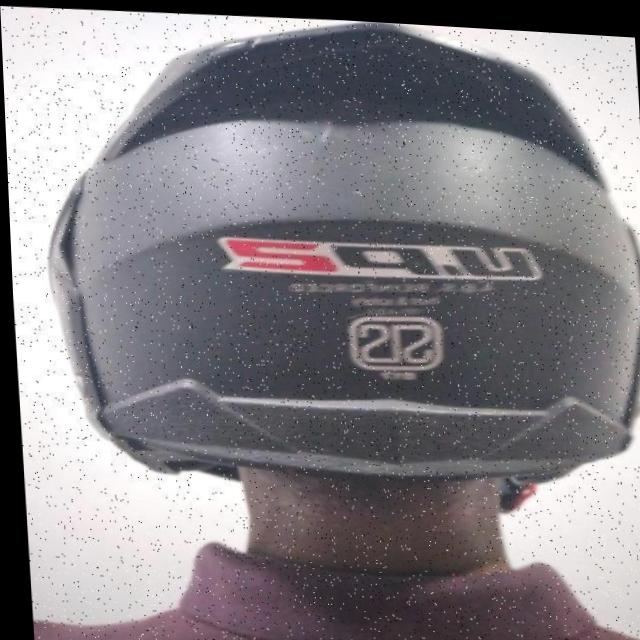helmet: (30, 1, 640, 524)
